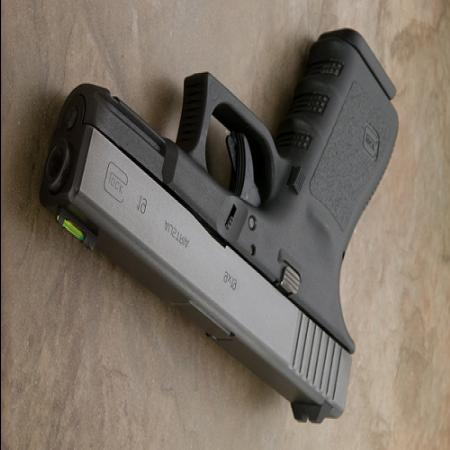Pistol: (40, 24, 398, 428)
